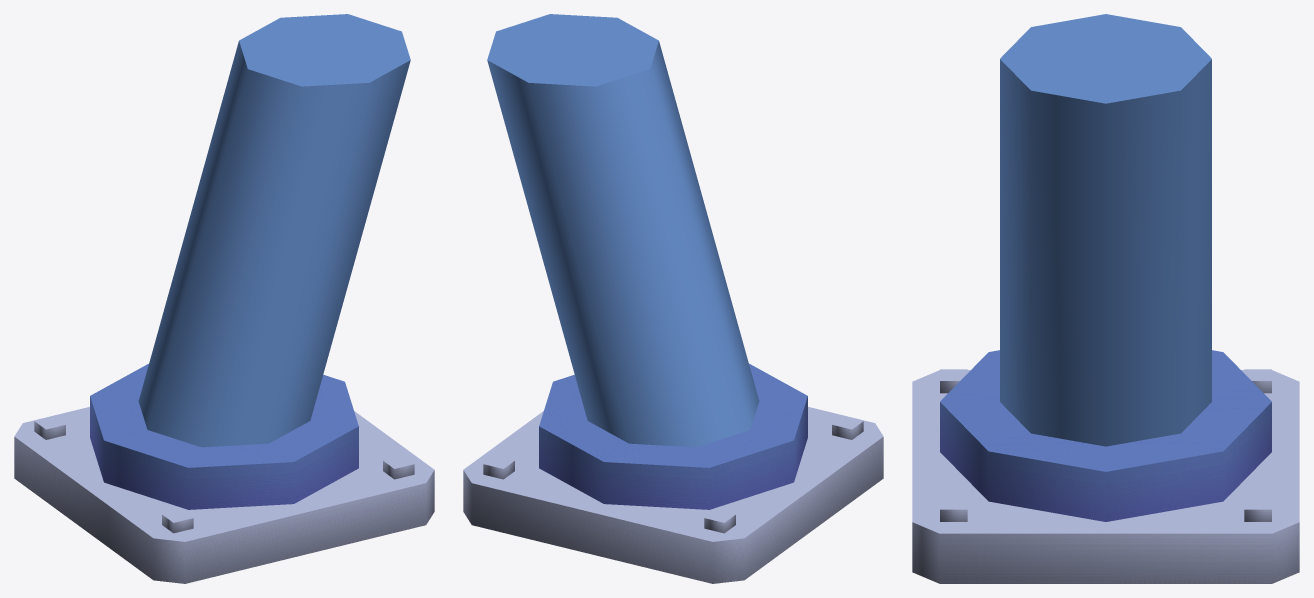
Rendered from coaster-kit--support-large-skew-bottom.glb.
3 renders of one model, left to right at view 1: azimuth 30°, elevation 25°; view 2: azimuth 150°, elevation 25°; view 3: azimuth 270°, elevation 25°, orthographic. The views are drawn at different scales.
Parts seen in each view (by area): view 1: support-large-skew-bottom; view 2: support-large-skew-bottom; view 3: support-large-skew-bottom.
Boxes of the visible parts, left/top/right/bottom form: support-large-skew-bottom: left=14, top=14, right=434, bottom=583; support-large-skew-bottom: left=463, top=14, right=883, bottom=583; support-large-skew-bottom: left=912, top=14, right=1299, bottom=583.
Size of the model in its own units: 0.7918 by 1 by 0.7.
Materials: 1 (1 with a texture image).
